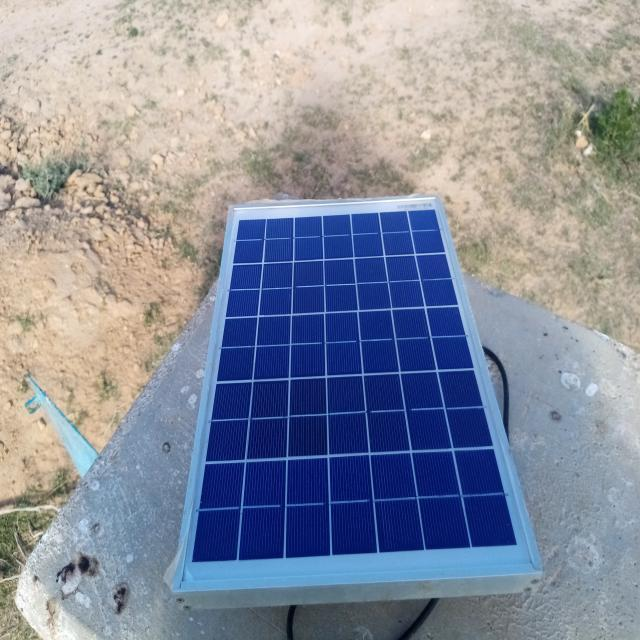no faulty: (177, 195, 538, 586)
